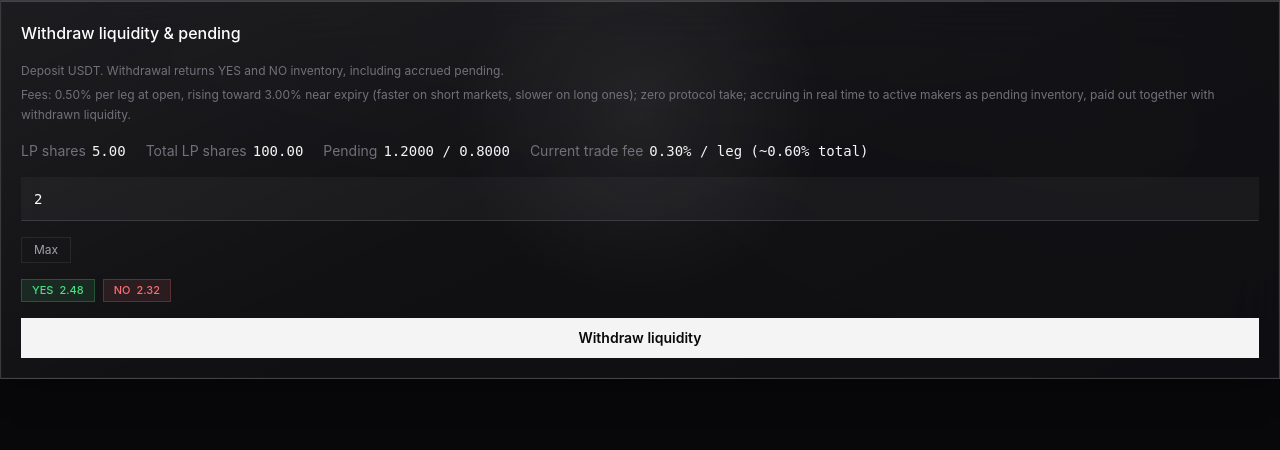
LpDesk 报价展示与指令提交 › 已终局市场（withdrawOnly）：隐藏存入选项卡，成功撤出后显示去下方结算台 1:1 兑付指引
Check: the text "Withdraw liquidity & pending" is shown, box [21,21,241,45]
Click the button "Withdraw liquidity" at (640, 338), box [21,318,1259,358]
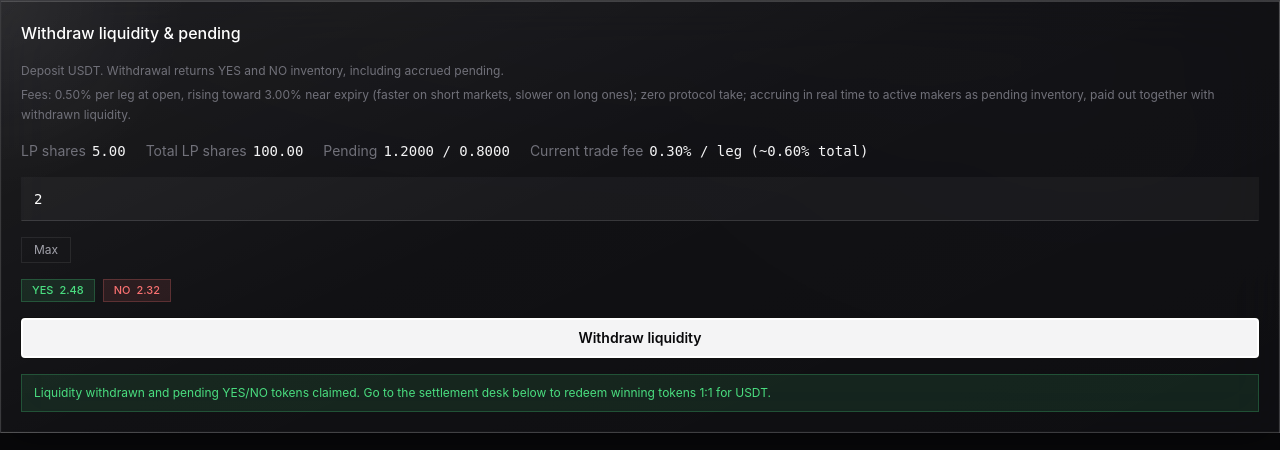
Check: the text "Liquidity withdrawn and pending YES/NO tokens claimed. Go to the settlement desk below to redeem winning tokens 1:1 for " is shown, box [34,384,771,400]
